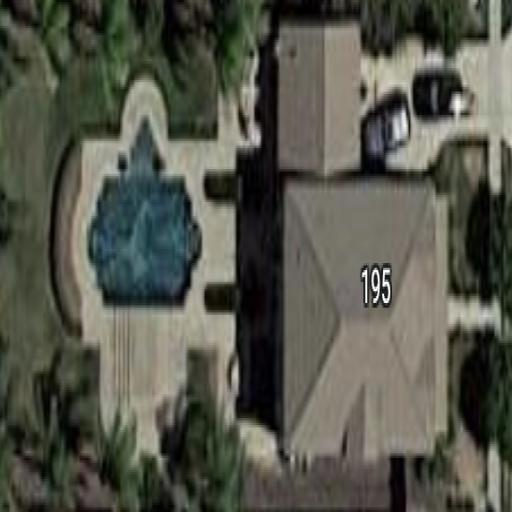Slope-Roof: (286, 184, 433, 458)
